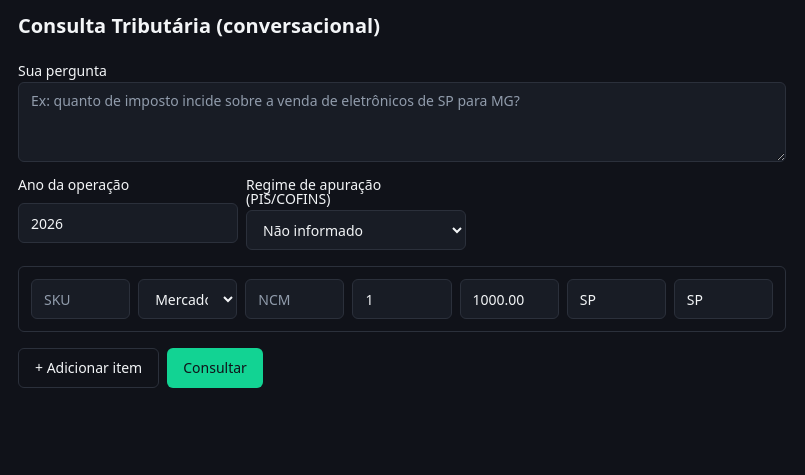
Test: ConsultaPage › AT-003: erro 422 (alíquota indisponível) é exibido sem parecer inventado
The width and height of the screenshot is (805, 475).
Type "quanto de imposto incide em 2028?" into the text box labelled "Sua pergunta" at (402, 122), box [18,82,786,162]
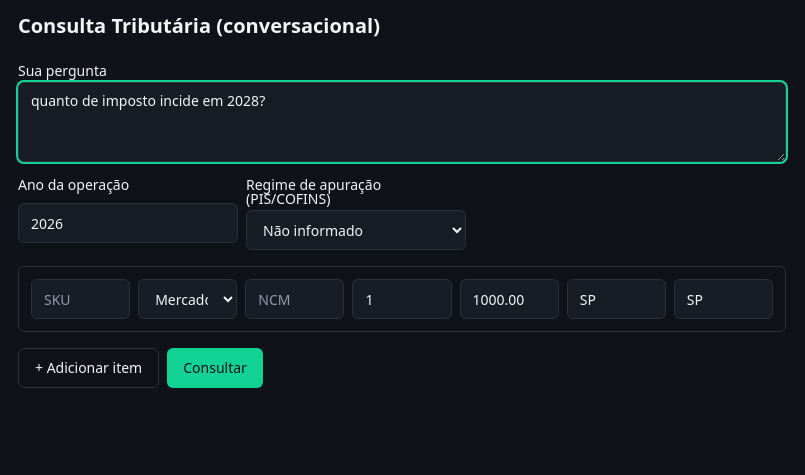
Click the button "Consultar" at (215, 368), box [167,348,263,388]
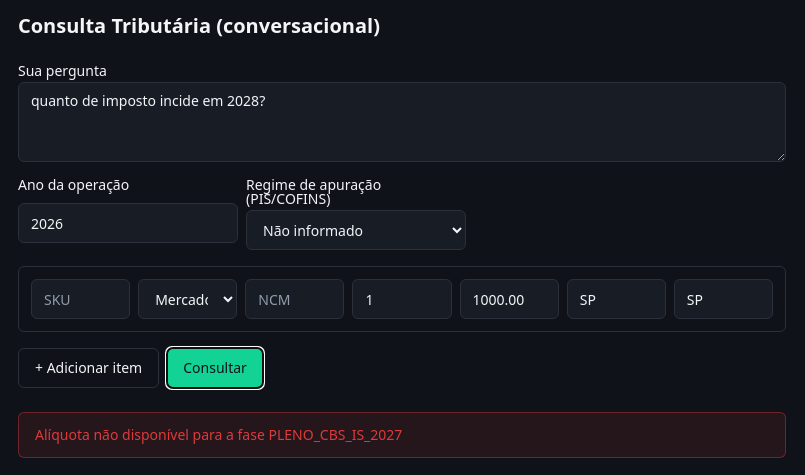
Result: the message shows "Alíquota não disponível" at [35,425,402,444]
